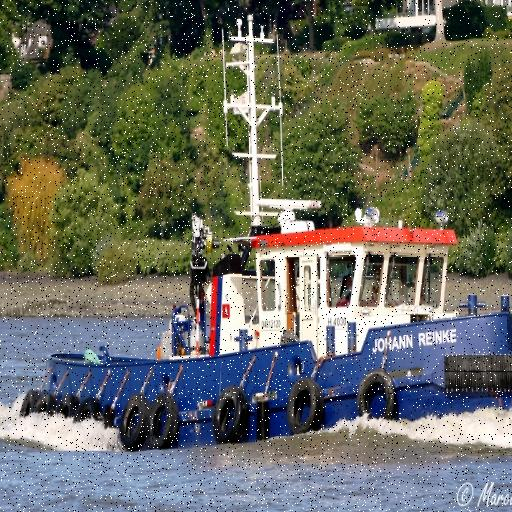tugboat: (12, 9, 512, 463)
